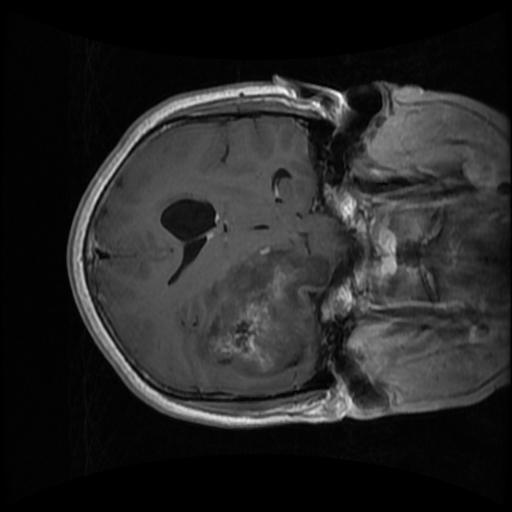glioma: (173, 246, 329, 377)
